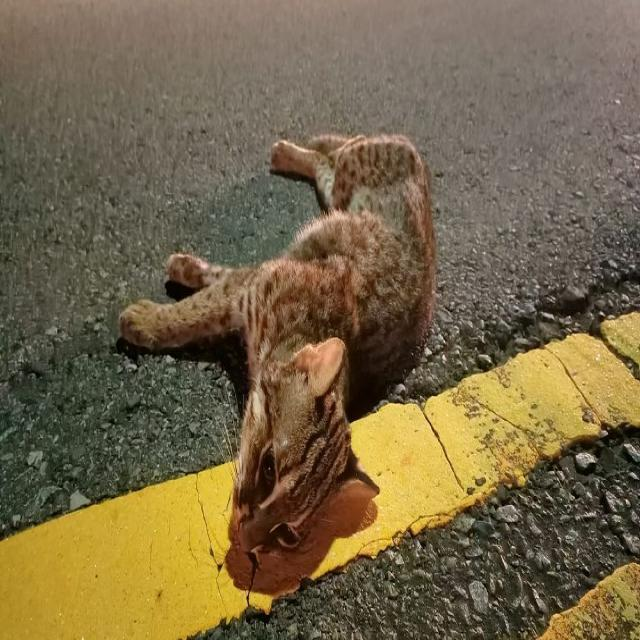leopard-cat: (106, 76, 487, 578)
